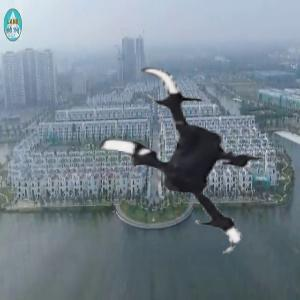drone: (72, 60, 278, 266)
